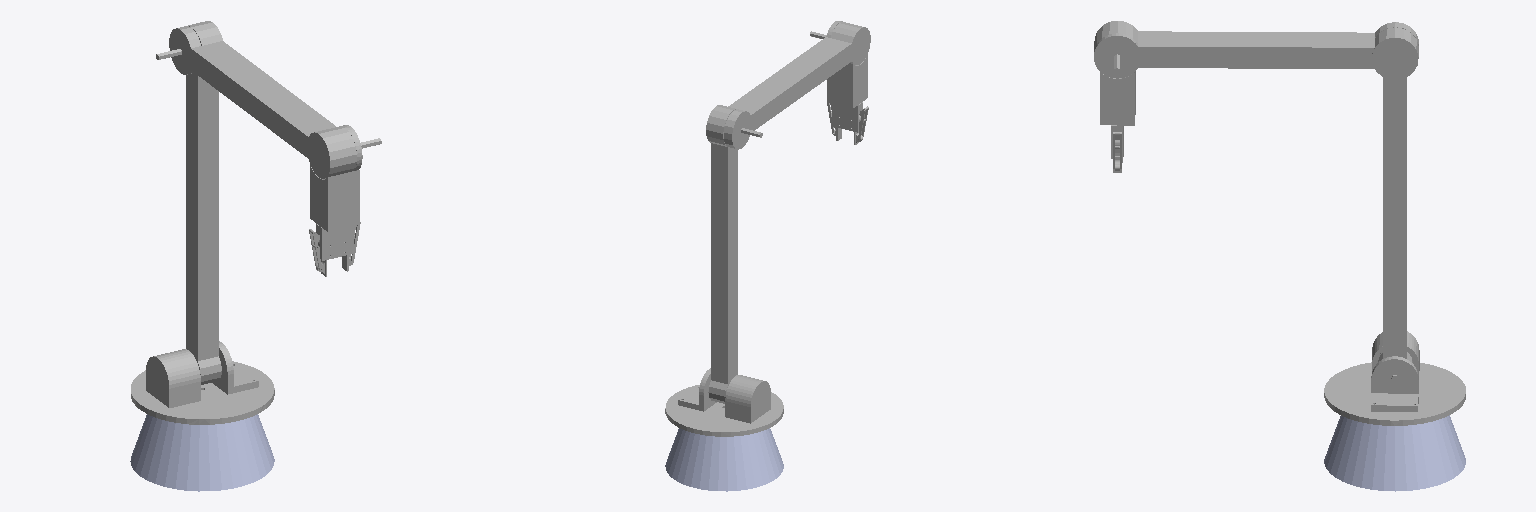
robot.urdf — zeus_arm:
<?xml version="1.0" encoding="utf-8"?>
<!-- This URDF was automatically created by SolidWorks to URDF Exporter! Originally created by [author] ([email redacted]) 
     Commit Version: 1.5.1-0-g916b5db  Build Version: 1.5.7152.31018
     For more information, please see http://wiki.ros.org/sw_urdf_exporter -->
<robot
  name="zeus_arm">
  <link name="world"/>
  <joint name="fixed" type="fixed">
    <parent link="world"/>
    <child link="base_link"/>
  </joint>
  <link
    name="base_link">
    <inertial>
      <origin
        xyz="-1.40425187791966E-17 -6.56669952542418E-18 0.0625420790069244"
        rpy="0 0 0" />
      <mass
        value="7.04603196242291" />
      <inertia
        ixx="0.0428830248523542"
        ixy="-5.41803301222227E-20"
        ixz="1.29661912703242E-18"
        iyy="0.0428830248523542"
        iyz="-2.39196460527064E-18"
        izz="0.0614322785331552" />
    </inertial>
    <visual>
      <origin
        xyz="0 0 0"
        rpy="0 0 0" />
      <geometry>
        <mesh
          filename="package://zeus_arm/meshes/base_link.STL" />
      </geometry>
      <material
        name="">
        <color
          rgba="0.792156862745098 0.819607843137255 0.933333333333333 1" />
      </material>
    </visual>
    <collision>
      <origin
        xyz="0 0 0"
        rpy="0 0 0" />
      <geometry>
        <mesh
          filename="package://zeus_arm/meshes/base_link.STL" />
      </geometry>
    </collision>
  </link>
  <link
    name="base_plate">
    <inertial>
      <origin
        xyz="-0.0130197151406295 0.00016673783359167 0.0236083493244784"
        rpy="0 0 0" />
      <mass
        value="1.49099679299515" />
      <inertia
        ixx="0.0059912584485333"
        ixy="-3.38443240882965E-06"
        ixz="0.000103949215011888"
        iyy="0.00572702856131155"
        iyz="-1.33123242154878E-06"
        izz="0.0107910043642852" />
    </inertial>
    <visual>
      <origin
        xyz="0 0 0"
        rpy="0 0 0" />
      <geometry>
        <mesh
          filename="package://zeus_arm/meshes/base_plate.STL" />
      </geometry>
      <material
        name="">
        <color
          rgba="0.752941176470588 0.752941176470588 0.752941176470588 1" />
      </material>
    </visual>
    <collision>
      <origin
        xyz="0 0 0"
        rpy="0 0 0" />
      <geometry>
        <mesh
          filename="package://zeus_arm/meshes/base_plate.STL" />
      </geometry>
    </collision>
  </link>
  <joint
    name="joint_1"
    type="continuous">
    <origin
      xyz="0 0 0.152539999998558"
      rpy="0 0 0" />
    <parent
      link="base_link" />
    <child
      link="base_plate" />
    <axis
      xyz="0 0 1" />
  </joint>
  <link
    name="arm">
    <inertial>
      <origin
        xyz="-5.05379205848614E-05 0.364397847135059 0.00390810479445254"
        rpy="0 0 0" />
      <mass
        value="2.47909711560501" />
      <inertia
        ixx="0.119871471203825"
        ixy="-5.11044341870296E-06"
        ixz="-1.78800543680481E-06"
        iyy="0.00134266330598186"
        iyz="0.000395220428916278"
        izz="0.120009724984221" />
    </inertial>
    <visual>
      <origin
        xyz="0 0 0"
        rpy="0 0 0" />
      <geometry>
        <mesh
          filename="package://zeus_arm/meshes/arm.STL" />
      </geometry>
      <material
        name="">
        <color
          rgba="0.752941176470588 0.752941176470588 0.752941176470588 1" />
      </material>
    </visual>
    <collision>
      <origin
        xyz="0 0 0"
        rpy="0 0 0" />
      <geometry>
        <mesh
          filename="package://zeus_arm/meshes/arm.STL" />
      </geometry>
    </collision>
  </link>
  <joint
    name="joint_2"
    type="revolute">
    <origin
      xyz="0 0 0.064050000082307"
      rpy="1.5707963267949 0 -1.57067229720919" />
    <parent
      link="base_plate" />
    <child
      link="arm" />
    <axis
      xyz="-0.0129295346677684 0 0.999916410072999" />
  <dynamics damping="1.0" friction="20.0"/>
    <limit
      lower="-2.62"
      upper="2.62"
      effort="39000"
      velocity="3.19" />
  </joint>
  <link
    name="forearm">
    <inertial>
      <origin
        xyz="-0.00664 -0.32961 0.020862"
        rpy="0 0 0" />
      <mass
        value="2.5851" />
      <inertia
        ixx="0.083851"
        ixy="-0.0016474"
        ixz="1.3769E-05"
        iyy="0.0021071"
        iyz="0.00068349"
        izz="0.083475" />
    </inertial>
    <visual>
      <origin
        xyz="0 0 0"
        rpy="0 0 0" />
      <geometry>
        <mesh
          filename="package://zeus_arm/meshes/forearm.STL" />
      </geometry>
      <material
        name="">
        <color
          rgba="0.75294 0.75294 0.75294 1" />
      </material>
    </visual>
    <collision>
      <origin
        xyz="0 0 0"
        rpy="0 0 0" />
      <geometry>
        <mesh
          filename="package://zeus_arm/meshes/forearm.STL" />
      </geometry>
    </collision>
  </link>
  <joint
    name="joint_3"
    type="revolute">
    <origin
      xyz="0 0.733752119827105 0"
      rpy="0 0 1.59093881590551" />
    <parent
      link="arm" />
    <child
      link="forearm" />
    <axis
      xyz="0.000260415401133654 0.0129269118719003 0.999916410073" />
    <dynamics damping="10.0" friction="10.0"/>
    <limit
      lower="-2.62"
      upper="2.62"
      effort="39000"
      velocity="3.19" />
  </joint>
  <link
    name="wrist">
    <inertial>
      <origin
        xyz="0.000224372819499608 -0.0830477174254304 -0.0173520601660857"
        rpy="0 0 0" />
      <mass
        value="0.668441301204721" />
      <inertia
        ixx="0.00093843190778967"
        ixy="1.41242981715693E-19"
        ixz="-8.09466640350848E-07"
        iyy="0.000668773652240966"
        iyz="1.09382796578356E-20"
        izz="0.00100102222257799" />
    </inertial>
    <visual>
      <origin
        xyz="0 0 0"
        rpy="0 0 0" />
      <geometry>
        <mesh
          filename="package://zeus_arm/meshes/wrist.STL" />
      </geometry>
      <material
        name="">
        <color
          rgba="0.752941176470588 0.752941176470588 0.752941176470588 1" />
      </material>
    </visual>
    <collision>
      <origin
        xyz="0 0 0"
        rpy="0 0 0" />
      <geometry>
        <mesh
          filename="package://zeus_arm/meshes/wrist.STL" />
      </geometry>
    </collision>
  </link>
  <joint
    name="joint_4"
    type="revolute">
    <origin
      xyz="-0.0118069737571342 -0.586093251658263 0.0339822911079425"
      rpy="0 0 -1.59093881590551" />
    <parent
      link="forearm" />
    <child
      link="wrist" />
    <axis
      xyz="-0.012929534667772 0 0.999916410072999" />
    <dynamics damping="10.0" friction="10.0"/>
    <limit
      lower="-2.62"
      upper="2.62"
      effort="39000"
      velocity="3.19" />  
  </joint>
  <link
    name="gripper">
    <inertial>
      <origin
        xyz="-1.2279E-05 -1.6491E-06 -0.020947"
        rpy="0 0 0" />
      <mass
        value="0.22738" />
      <inertia
        ixx="8.9687E-05"
        ixy="-1.7952E-09"
        ixz="2.6762E-09"
        iyy="0.00013479"
        iyz="-1.8542E-09"
        izz="8.5758E-05" />
    </inertial>
    <visual>
      <origin
        xyz="0 0 0"
        rpy="0 0 0" />
      <geometry>
        <mesh
          filename="package://zeus_arm/meshes/gripper.STL" />
      </geometry>
      <material
        name="">
        <color
          rgba="0.75294 0.75294 0.75294 1" />
      </material>
    </visual>
    <collision>
      <origin
        xyz="0 0 0"
        rpy="0 0 0" />
      <geometry>
        <mesh
          filename="package://zeus_arm/meshes/gripper.STL" />
      </geometry>
    </collision>
  </link>
  <joint
    name="joint_5"
    type="continuous">
    <origin
      xyz="0.00016421 -0.15927 -0.012699"
      rpy="-1.5708 1.5579 0" />
    <parent
      link="wrist" />
    <child
      link="gripper" />
    <axis
      xyz="0 0 1" />
    <dynamics damping="1.0" friction="5.0"/>
  </joint>
  <gazebo>
    <plugin name="gazebo_ros_control" filename="libgazebo_ros_control.so">
	<robotNameSpace>/zeus_arm</robotNameSpace>
    </plugin>
  </gazebo>

  <transmission name="tran1">
    <type>transmission_interface/SimpleTransmission</type>
    <joint name="joint_1">
      <hardwareInterface>hardware_interface/EffortJointInterface</hardwareInterface>
    </joint>
    <actuator name="motor1">
      <hardwareInterface>hardware_interface/EffortJointInterface</hardwareInterface>
      <mechanicalReduction>1</mechanicalReduction>
    </actuator>
  </transmission>

  <transmission name="tran2">
    <type>transmission_interface/SimpleTransmission</type>
    <joint name="joint_2">
      <hardwareInterface>hardware_interface/EffortJointInterface</hardwareInterface>
    </joint>
    <actuator name="motor2">
      <hardwareInterface>hardware_interface/EffortJointInterface</hardwareInterface>
      <mechanicalReduction>1</mechanicalReduction>
    </actuator>
  </transmission>

  <transmission name="tran3">
    <type>transmission_interface/SimpleTransmission</type>
    <joint name="joint_3">
      <hardwareInterface>hardware_interface/EffortJointInterface</hardwareInterface>
    </joint>
    <actuator name="motor3">
      <hardwareInterface>hardware_interface/EffortJointInterface</hardwareInterface>
      <mechanicalReduction>1</mechanicalReduction>
    </actuator>
  </transmission>

  <transmission name="tran4">
    <type>transmission_interface/SimpleTransmission</type>
    <joint name="joint_4">
      <hardwareInterface>hardware_interface/EffortJointInterface</hardwareInterface>
    </joint>
    <actuator name="motor4">
      <hardwareInterface>hardware_interface/EffortJointInterface</hardwareInterface>
      <mechanicalReduction>1</mechanicalReduction>
    </actuator>
  </transmission>

  <transmission name="tran5">
    <type>transmission_interface/SimpleTransmission</type>
    <joint name="joint_5">
      <hardwareInterface>hardware_interface/EffortJointInterface</hardwareInterface>
    </joint>
    <actuator name="motor5">
      <hardwareInterface>hardware_interface/EffortJointInterface</hardwareInterface>
      <mechanicalReduction>1</mechanicalReduction>
    </actuator>
  </transmission>
</robot>

--- Facts derived from the render (not from the file) ---
3 views of the same robot in one strip: view 1: azimuth 30°, elevation 25°; view 2: azimuth 150°, elevation 25°; view 3: azimuth 270°, elevation 25° (orthographic).
Model zeus_arm with 7 links and 6 joints (3 revolute, 2 continuous, 1 fixed), rooted at world, posed every joint at zero.
Visible links, largest first — view 1: arm, forearm, base_link, base_plate, wrist, gripper; view 2: arm, forearm, base_link, base_plate, wrist, gripper; view 3: forearm, arm, base_link, base_plate, wrist, gripper.
Boxes of the visible links, x1,y1,x2,y2 form: arm: (156, 21, 222, 384); forearm: (169, 26, 381, 178); base_link: (130, 414, 274, 491); base_plate: (131, 341, 274, 424); wrist: (310, 125, 362, 231); gripper: (309, 222, 360, 276); arm: (706, 105, 762, 403); forearm: (724, 22, 870, 149); base_link: (665, 428, 783, 491); base_plate: (665, 368, 783, 436); wrist: (826, 21, 867, 108); gripper: (827, 102, 868, 144); forearm: (1094, 21, 1418, 73); arm: (1372, 27, 1418, 380); base_link: (1324, 415, 1465, 491); base_plate: (1324, 331, 1465, 425); wrist: (1094, 33, 1140, 125); gripper: (1111, 125, 1123, 172).
Size in the robot's own frame: 0.3 by 0.7868 by 1 metres.
Meshes: 6 distinct files referenced, 6 mesh visuals loaded (6 binary STL).